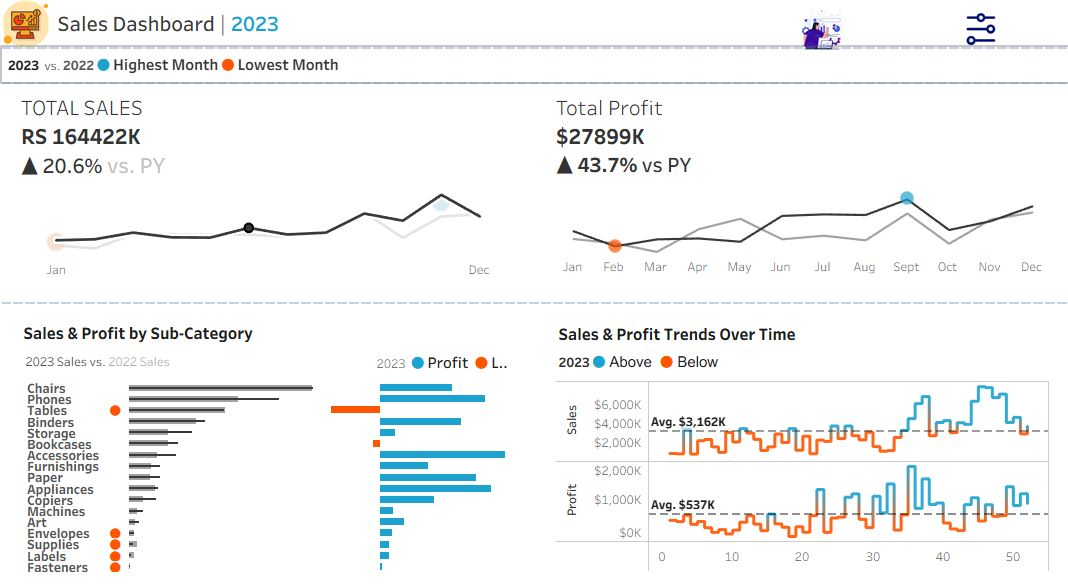

What the dashboard file says about the page in this screenshot:
{"tool":"tableau","page":{"name":"Dashboard 1","canvas":[1000,1000],"units":"permille","ordinal":0},"visuals":[{"type":"text","box":[2.8,5.1,497.2,92.8]},{"type":"dashboard-object","box":[500,5.1,248.6,92.8]},{"type":"dashboard-object","box":[748.6,5.1,248.6,92.8]},{"type":"dashboard-object","box":[457.9,28.7,22.4,40.5]},{"type":"parameter","param":"[Parameters].[Parameter 1]","box":[370.1,40.5,147.7,47]},{"type":"legend","title":"KPI SALES","param":"[federated.0n6h01s1owf0ut10gt19k1f2pzh2].[:Measure Names]","box":[370.1,87.5,147.7,47]},{"type":"worksheet","title":"KPI SALES","mark":"Automatic","rows":["Calculation_1083619144249344"],"cols":["Order Date"],"box":[2.8,97.8,497.2,357.5]},{"type":"worksheet","title":"KPI PROFIT","mark":"Automatic","rows":["Min / Max Sales (copy)_0708136249643008"],"cols":["Order Date"],"box":[500,97.8,497.2,357.5]},{"type":"legend","title":"KPI SALES","param":"[federated.0n6h01s1owf0ut10gt19k1f2pzh2].[usr:Calculation_1083619144249344:qk]","box":[370.1,134.4,147.7,47]},{"type":"legend","title":"KPI PROFIT","param":"[federated.0n6h01s1owf0ut10gt19k1f2pzh2].[usr:Min / Max Sales (copy)_07081362496","box":[370.1,181.4,147.7,47]},{"type":"legend","title":"Sub-category comparison","param":"[federated.0n6h01s1owf0ut10gt19k1f2pzh2].[sum:Calculation_1083619161202693:qk]","box":[370.1,228.4,147.7,47]},{"type":"legend","title":"Weekly Trends","param":"[federated.0n6h01s1owf0ut10gt19k1f2pzh2].[usr:Calculation_0777405786906629:nk]","box":[370.1,275.3,147.7,47]},{"type":"legend","title":"Weekly Trends","param":"[federated.0n6h01s1owf0ut10gt19k1f2pzh2].[usr:KPI SALES AVG  (copy)_077740578740","box":[370.1,322.3,147.7,47]},{"type":"text","box":[2.8,455.3,497.2,45.5]},{"type":"worksheet","title":"Weekly Trends","mark":"Automatic","rows":["Calculation_0947004460437504","Calculation_1083619161202693"],"cols":["Order Date"],"box":[500,455.3,497.2,490.7]},{"type":"worksheet","title":"Legends","mark":"Automatic","box":[2.8,500.8,329.9,54]},{"type":"text","box":[332.7,500.8,167.3,54]},{"type":"worksheet","title":"Sub-category comparison","mark":"Bar","rows":["Sub-Category","Calculation_0777405777571844"],"cols":["CY SALES  (copy)_0947004460797953","Calculation_0947004460437504","Calculation_1083619161202693"],"box":[2.8,554.8,497.2,391.2]}]}

Visuals, with their boxes on the dashboard's canvas, which has no fixed pixel size, in thousandths of its width and height (x1, y1, x2, y2). These are canvas units, not pixel positions in the 1068x588 screenshot, which may show the page scaled, cropped or inside an application window:
text: 3:5:500:98
dashboard-object: 500:5:749:98
dashboard-object: 749:5:997:98
dashboard-object: 458:29:480:69
parameter: 370:40:518:88
"KPI SALES" legend: 370:88:518:134
"KPI SALES" worksheet: 3:98:500:455
"KPI PROFIT" worksheet: 500:98:997:455
"KPI SALES" legend: 370:134:518:181
"KPI PROFIT" legend: 370:181:518:228
"Sub-category comparison" legend: 370:228:518:275
"Weekly Trends" legend: 370:275:518:322
"Weekly Trends" legend: 370:322:518:369
text: 3:455:500:501
"Weekly Trends" worksheet: 500:455:997:946
"Legends" worksheet: 3:501:333:555
text: 333:501:500:555
"Sub-category comparison" worksheet (Bar marks): 3:555:500:946
